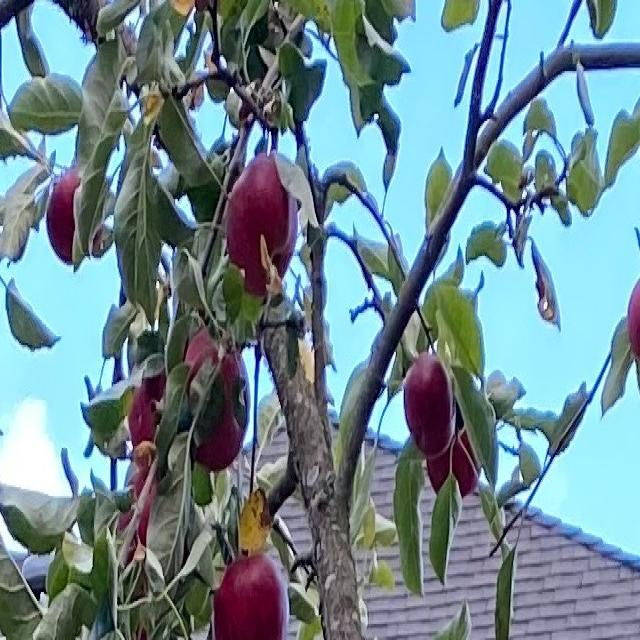100-_ripeness: (228, 155, 297, 297), (185, 334, 249, 471), (214, 554, 287, 640), (47, 174, 102, 263), (405, 361, 456, 453), (427, 421, 480, 496), (115, 468, 156, 554), (129, 372, 165, 446), (629, 279, 640, 361)
